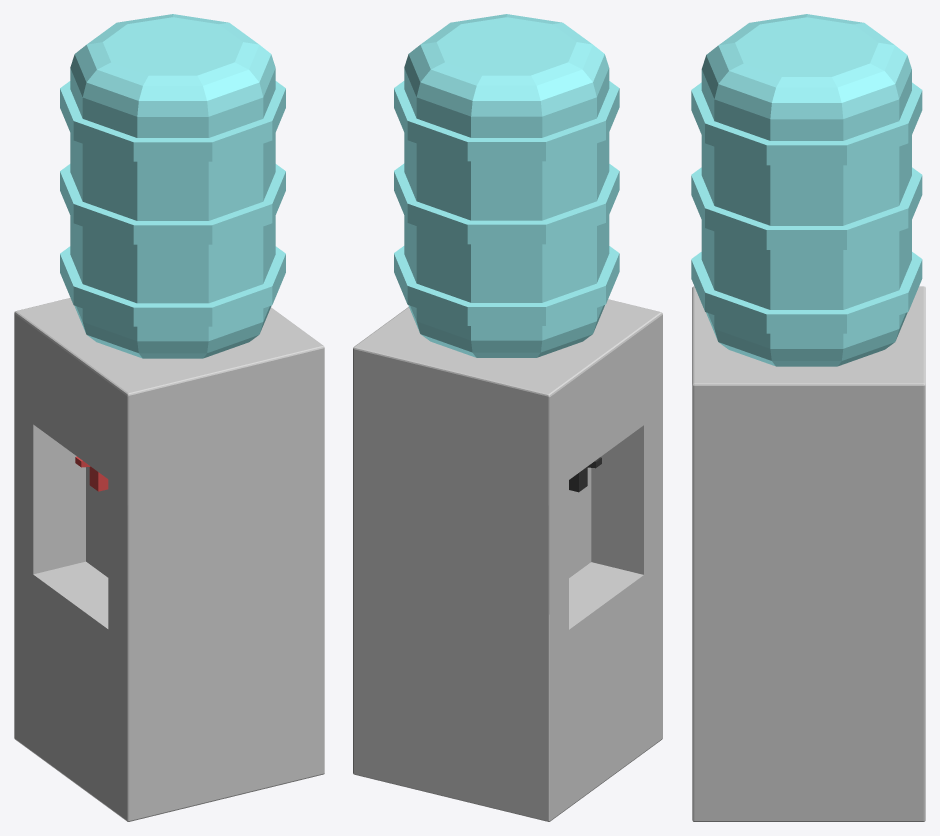
Rendered from water_cooler.fbx.
The picture shows the model from 3 angles, left to right: view 1: azimuth 30°, elevation 25°; view 2: azimuth 150°, elevation 25°; view 3: azimuth 270°, elevation 25°; orthographic projection. The views are drawn at different scales.
Parts seen in each view (by area): view 1: water_cooler_export; view 2: water_cooler_export; view 3: water_cooler_export.
Part boxes in pixels (x1,y1,x2,y2): water_cooler_export: [14, 14, 324, 821]; water_cooler_export: [353, 14, 662, 821]; water_cooler_export: [691, 14, 925, 821].
Size of the model in its own units: 72.71 by 250 by 73.06.
